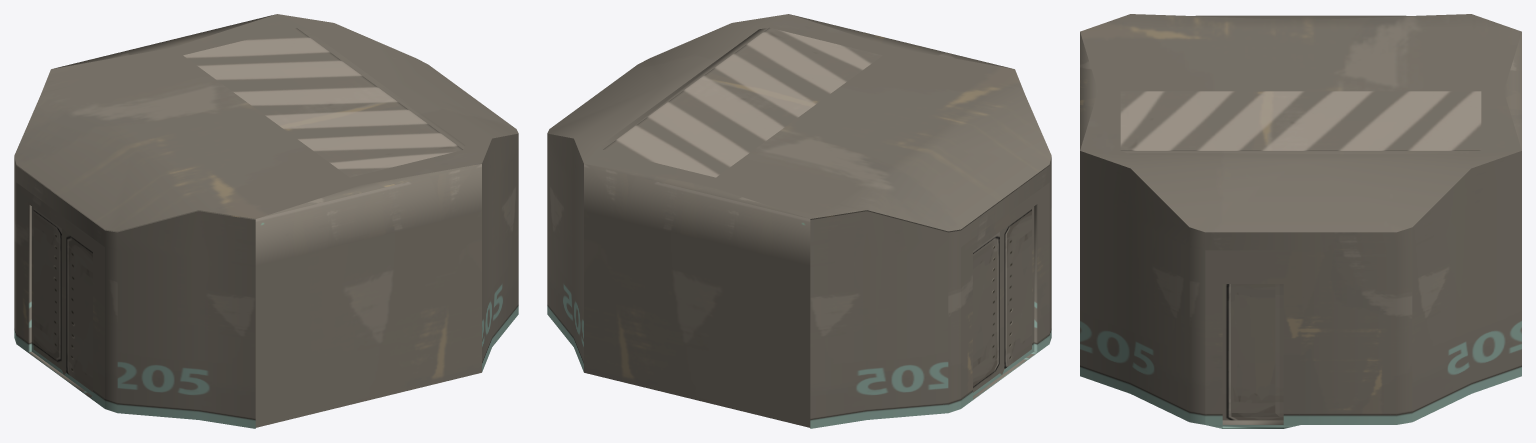
File: supply_depot_open.dae
3 views of the same model, side by side, from view 1: azimuth 30°, elevation 25°; view 2: azimuth 150°, elevation 25°; view 3: azimuth 270°, elevation 25° (orthographic). The views are drawn at different scales.
Visible parts, largest first — view 1: house; view 2: house; view 3: house.
Boxes of the visible parts, x1,y1,x2,y2 form: house: (14, 14, 518, 428); house: (547, 14, 1051, 428); house: (1080, 14, 1521, 428).
Size of the model in its own units: 9.62 by 8.29 by 4.75.
